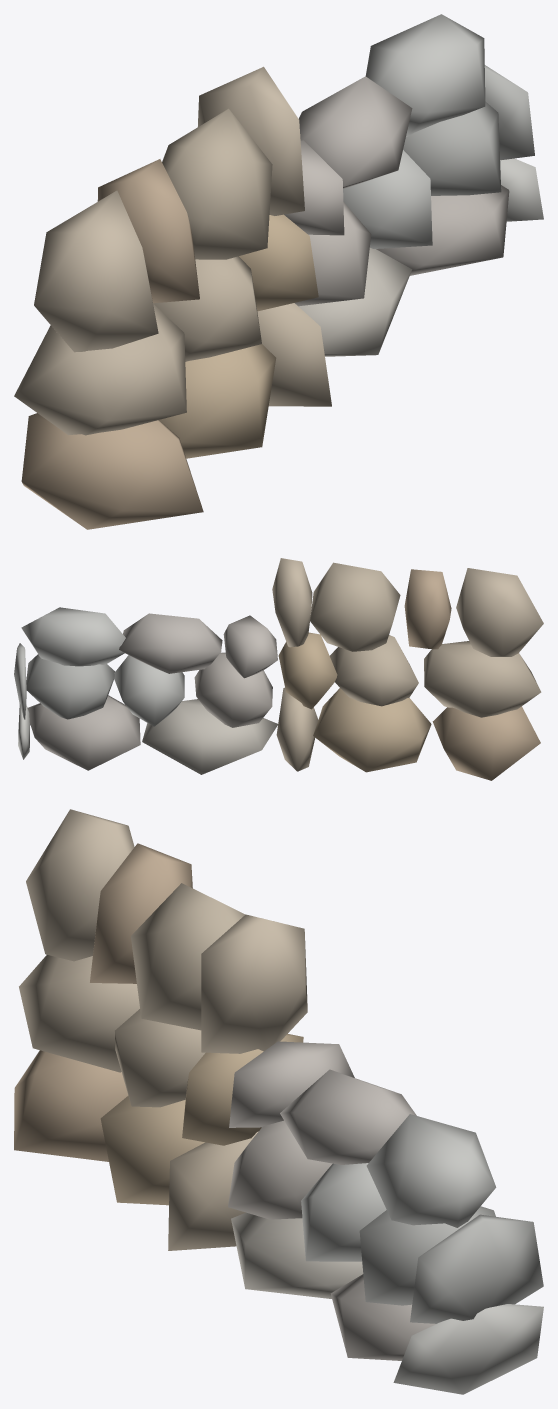
File: farm_-10_9_near.glb
3 views of the same model, one above another, from view 1: azimuth 30°, elevation 25°; view 2: azimuth 150°, elevation 25°; view 3: azimuth 270°, elevation 25° (orthographic). The views are drawn at different scales.
Parts seen in each view (by area): view 1: geometry_0; view 2: geometry_0; view 3: geometry_0.
Part boxes in pixels (x1,y1,x2,y2): geometry_0: (14, 14, 543, 529); geometry_0: (14, 558, 543, 780); geometry_0: (14, 809, 543, 1394).
Size of the model in its own units: 3.03 by 1.45 by 2.
